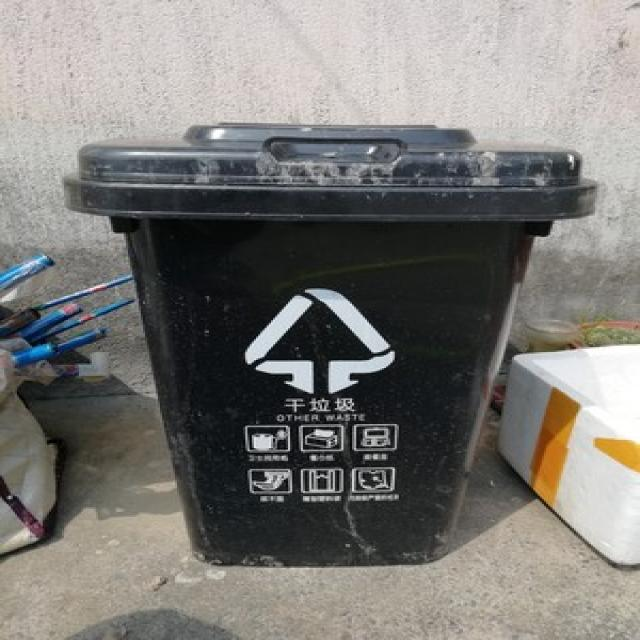ash bin: (64, 118, 604, 568)
